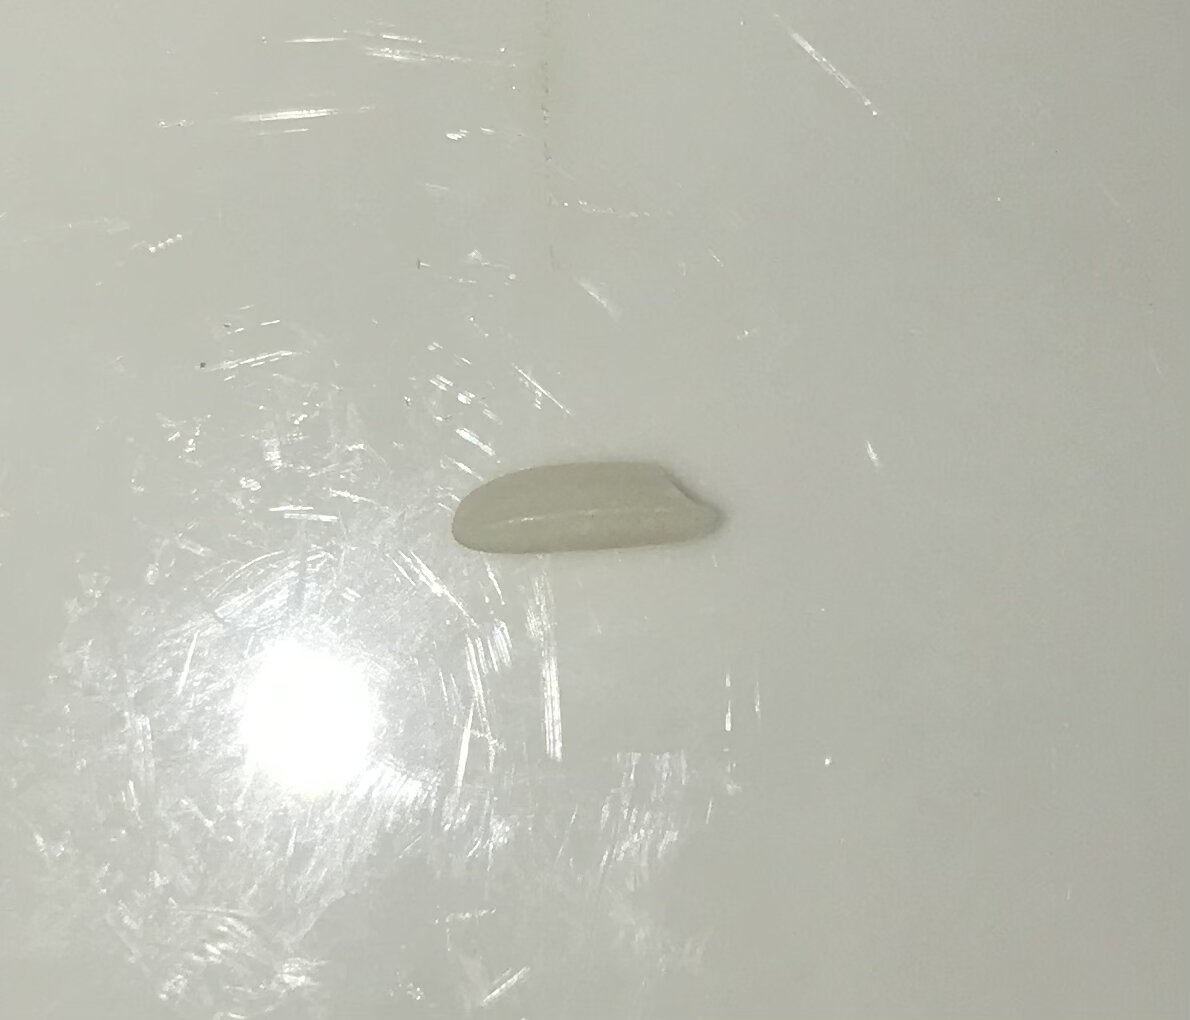Gao Lai Sua: (451, 440, 730, 576)
